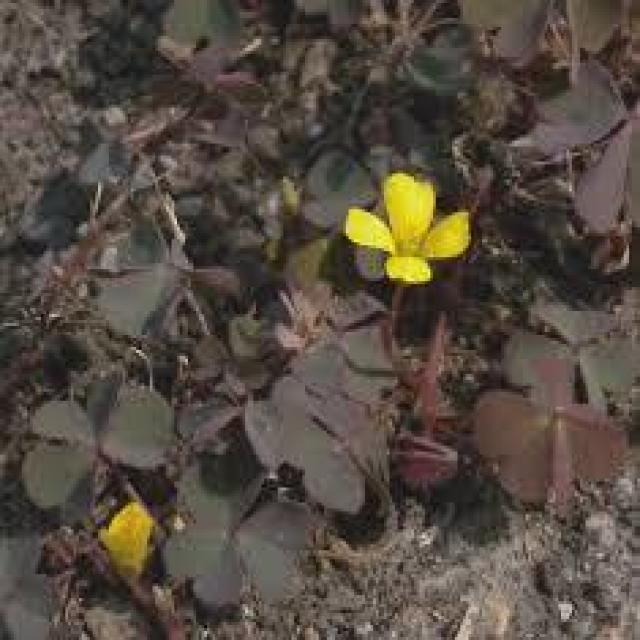organic waste: (336, 166, 478, 292)
